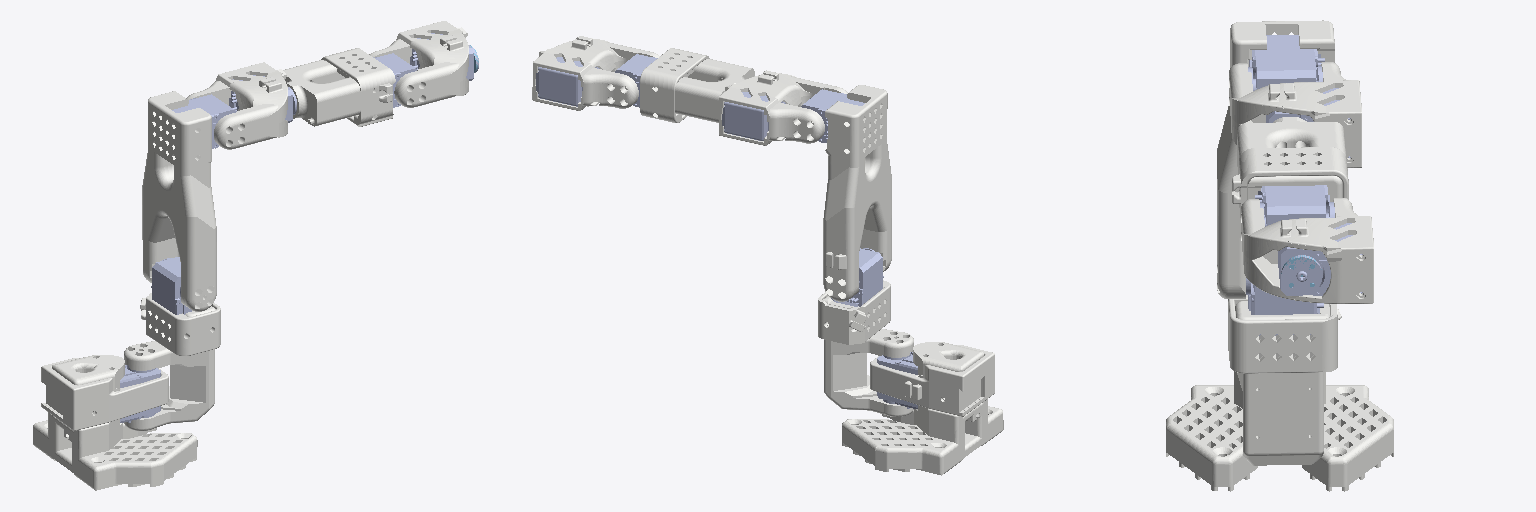
robot.urdf — so101:
<?xml version="1.0" ?>
<!-- Generated using onshape-to-robot -->
<!-- Onshape https://cad.onshape.com/documents/df54c2d0d5118dfe6b247a42/w/10fff0edb753715a22c52ae0/e/c1e9967b0a85ac00dd4973a7 -->
<robot name="so101">
  <!-- Link base_link -->
  <link name="base_link">
    <inertial>
      <origin xyz="0.0184526 -3.69594e-05 0.0306338" rpy="0 0 0"/>
      <mass value="0.233154"/>
      <inertia ixx="0.000226262" ixy="-6.88253e-07" ixz="1.43988e-05" iyy="0.000225689" iyz="1.36258e-07" izz="0.000233596"/>
    </inertial>
    <!-- Part sts3215_03a -->
    <visual>
      <origin xyz="0.0327 1e-11 0.0461" rpy="-0 -4.012e-09 4.43e-10"/>
      <geometry>
        <mesh filename="package://assets/sts3215_03a.stl"/>
      </geometry>
      <material name="sts3215_03a_material">
        <color rgba="0.796078 0.823529 0.937255 1"/>
      </material>
    </visual>
    <collision>
      <origin xyz="0.0327 1e-11 0.0461" rpy="-0 -4.012e-09 4.43e-10"/>
      <geometry>
        <mesh filename="package://assets/sts3215_03a.stl"/>
      </geometry>
    </collision>
    <!-- Part base_link_step -->
    <visual>
      <origin xyz="0 0 0" rpy="1.5708 0 1.5708"/>
      <geometry>
        <mesh filename="package://assets/base_link_step.stl"/>
      </geometry>
      <material name="base_link_step_material">
        <color rgba="0.964706 0.964706 0.952941 1"/>
      </material>
    </visual>
    <collision>
      <origin xyz="0 0 0" rpy="1.5708 0 1.5708"/>
      <geometry>
        <mesh filename="package://assets/base_link_step.stl"/>
      </geometry>
    </collision>
    <!-- Part base_motor_holder_so101 -->
    <visual>
      <origin xyz="0 0 0" rpy="1.5708 0 1.5708"/>
      <geometry>
        <mesh filename="package://assets/base_motor_holder_so101.stl"/>
      </geometry>
      <material name="base_motor_holder_so101_material">
        <color rgba="0.964706 0.964706 0.952941 1"/>
      </material>
    </visual>
    <collision>
      <origin xyz="0 0 0" rpy="1.5708 0 1.5708"/>
      <geometry>
        <mesh filename="package://assets/base_motor_holder_so101.stl"/>
      </geometry>
    </collision>
  </link>
  <!-- Link link_1 -->
  <link name="link_1">
    <inertial>
      <origin xyz="0.0311029 -0.00118464 -0.0119832" rpy="0 0 0"/>
      <mass value="0.152781"/>
      <inertia ixx="0.00015286" ixy="1.47992e-07" ixz="4.69778e-06" iyy="0.00015437" iyz="-3.12295e-07" izz="4.16335e-05"/>
    </inertial>
    <!-- Part rotation_pitch_so101 -->
    <visual>
      <origin xyz="-0.0119906 0.000473619 0.0464" rpy="-1.5708 0 3.10211"/>
      <geometry>
        <mesh filename="package://assets/rotation_pitch_so101.stl"/>
      </geometry>
      <material name="rotation_pitch_so101_material">
        <color rgba="0.964706 0.964706 0.952941 1"/>
      </material>
    </visual>
    <collision>
      <origin xyz="-0.0119906 0.000473619 0.0464" rpy="-1.5708 0 3.10211"/>
      <geometry>
        <mesh filename="package://assets/rotation_pitch_so101.stl"/>
      </geometry>
    </collision>
    <!-- Part sts3215_03a_2 -->
    <visual>
      <origin xyz="0.0305564 -0.00170734 -0.0417" rpy="-1.53132 1.5708 0"/>
      <geometry>
        <mesh filename="package://assets/sts3215_03a.stl"/>
      </geometry>
      <material name="sts3215_03a_2_material">
        <color rgba="0.796078 0.823529 0.937255 1"/>
      </material>
    </visual>
    <collision>
      <origin xyz="0.0305564 -0.00170734 -0.0417" rpy="-1.53132 1.5708 0"/>
      <geometry>
        <mesh filename="package://assets/sts3215_03a.stl"/>
      </geometry>
    </collision>
    <!-- Part rotation_pitch_so101_2 -->
    <visual>
      <origin xyz="0.0677393 -0.00287579 0.0158499" rpy="-1.61027 -1.5708 0"/>
      <geometry>
        <mesh filename="package://assets/rotation_pitch_so101__2.stl"/>
      </geometry>
      <material name="rotation_pitch_so101_2_material">
        <color rgba="0.964706 0.964706 0.952941 1"/>
      </material>
    </visual>
    <collision>
      <origin xyz="0.0677393 -0.00287579 0.0158499" rpy="-1.61027 -1.5708 0"/>
      <geometry>
        <mesh filename="package://assets/rotation_pitch_so101__2.stl"/>
      </geometry>
    </collision>
  </link>
  <!-- Link link_2 -->
  <link name="link_2">
    <inertial>
      <origin xyz="-0.0738003 -0.00356842 0.0183187" rpy="0 0 0"/>
      <mass value="0.196893"/>
      <inertia ixx="8.61024e-05" ixy="-2.77715e-05" ixz="-8.21513e-07" iyy="0.000338559" iyz="9.4401e-08" izz="0.000301115"/>
    </inertial>
    <!-- Part upper_arm_so101 -->
    <visual>
      <origin xyz="-0.065085 0.012 0.0182" rpy="-3.14159 0 0"/>
      <geometry>
        <mesh filename="package://assets/upper_arm_so101.stl"/>
      </geometry>
      <material name="upper_arm_so101_material">
        <color rgba="0.964706 0.964706 0.952941 1"/>
      </material>
    </visual>
    <collision>
      <origin xyz="-0.065085 0.012 0.0182" rpy="-3.14159 0 0"/>
      <geometry>
        <mesh filename="package://assets/upper_arm_so101.stl"/>
      </geometry>
    </collision>
    <!-- Part sts3215_03a_3 -->
    <visual>
      <origin xyz="-0.11257 -0.0155 0.0188" rpy="3.14159 0 -1.5708"/>
      <geometry>
        <mesh filename="package://assets/sts3215_03a.stl"/>
      </geometry>
      <material name="sts3215_03a_3_material">
        <color rgba="0.796078 0.823529 0.937255 1"/>
      </material>
    </visual>
    <collision>
      <origin xyz="-0.11257 -0.0155 0.0188" rpy="3.14159 0 -1.5708"/>
      <geometry>
        <mesh filename="package://assets/sts3215_03a.stl"/>
      </geometry>
    </collision>
  </link>
  <!-- Link 6dof_link_3 -->
  <link name="6dof_link_3">
    <inertial>
      <origin xyz="-0.0356344 0.000173351 0.0078778" rpy="0 0 0"/>
      <mass value="0.0905154"/>
      <inertia ixx="3.4528e-05" ixy="1.2444e-08" ixz="6.08705e-06" iyy="5.23387e-05" iyz="6.786e-08" izz="3.01289e-05"/>
    </inertial>
    <!-- Part wrist_roll_pitch_so101 -->
    <visual>
      <origin xyz="-0.028 0 0" rpy="3.14159 -1.5708 0"/>
      <geometry>
        <mesh filename="package://assets/wrist_roll_pitch_so101.stl"/>
      </geometry>
      <material name="wrist_roll_pitch_so101_material">
        <color rgba="0.964706 0.964706 0.952941 1"/>
      </material>
    </visual>
    <collision>
      <origin xyz="-0.028 0 0" rpy="3.14159 -1.5708 0"/>
      <geometry>
        <mesh filename="package://assets/wrist_roll_pitch_so101.stl"/>
      </geometry>
    </collision>
    <!-- Part sts3215_03a_4 -->
    <visual>
      <origin xyz="-0.0424 0 0.0125" rpy="-3.14159 1.5708 0"/>
      <geometry>
        <mesh filename="package://assets/sts3215_03a.stl"/>
      </geometry>
      <material name="sts3215_03a_4_material">
        <color rgba="0.796078 0.823529 0.937255 1"/>
      </material>
    </visual>
    <collision>
      <origin xyz="-0.0424 0 0.0125" rpy="-3.14159 1.5708 0"/>
      <geometry>
        <mesh filename="package://assets/sts3215_03a.stl"/>
      </geometry>
    </collision>
  </link>
  <!-- Link 6dof_link_4 -->
  <link name="6dof_link_4">
    <inertial>
      <origin xyz="5.40994e-05 -0.00231718 -0.0488906" rpy="0 0 0"/>
      <mass value="0.127965"/>
      <inertia ixx="8.72585e-05" ixy="2.1427e-08" ixz="3.0399e-08" iyy="0.000104692" iyz="-5.85084e-06" izz="3.63967e-05"/>
    </inertial>
    <!-- Part sts3215_03a_5 -->
    <visual>
      <origin xyz="0.0004 -0.0052 -0.0715499" rpy="-3.14159 1.5708 0"/>
      <geometry>
        <mesh filename="package://assets/sts3215_03a.stl"/>
      </geometry>
      <material name="sts3215_03a_5_material">
        <color rgba="0.796078 0.823529 0.937255 1"/>
      </material>
    </visual>
    <collision>
      <origin xyz="0.0004 -0.0052 -0.0715499" rpy="-3.14159 1.5708 0"/>
      <geometry>
        <mesh filename="package://assets/sts3215_03a.stl"/>
      </geometry>
    </collision>
    <!-- Part motor_holder_so101_wrist -->
    <visual>
      <origin xyz="0.0002 0.032 -0.014" rpy="-0 -1.5708 0"/>
      <geometry>
        <mesh filename="package://assets/motor_holder_so101_wrist.stl"/>
      </geometry>
      <material name="motor_holder_so101_wrist_material">
        <color rgba="0.964706 0.964706 0.952941 1"/>
      </material>
    </visual>
    <collision>
      <origin xyz="0.0002 0.032 -0.014" rpy="-0 -1.5708 0"/>
      <geometry>
        <mesh filename="package://assets/motor_holder_so101_wrist.stl"/>
      </geometry>
    </collision>
    <!-- Part arm5 -->
    <visual>
      <origin xyz="-0 0.032 -0.014" rpy="0 -1.5708 0"/>
      <geometry>
        <mesh filename="package://assets/arm5.stl"/>
      </geometry>
      <material name="arm5_material">
        <color rgba="0.964706 0.964706 0.952941 1"/>
      </material>
    </visual>
    <collision>
      <origin xyz="-0 0.032 -0.014" rpy="0 -1.5708 0"/>
      <geometry>
        <mesh filename="package://assets/arm5.stl"/>
      </geometry>
    </collision>
  </link>
  <!-- Link 6dof_link_5 -->
  <link name="6dof_link_5">
    <inertial>
      <origin xyz="-0.0356344 0.000173351 0.0078778" rpy="0 0 0"/>
      <mass value="0.0905154"/>
      <inertia ixx="3.4528e-05" ixy="1.2444e-08" ixz="6.08705e-06" iyy="5.23387e-05" iyz="6.786e-08" izz="3.01289e-05"/>
    </inertial>
    <!-- Part wrist_roll_pitch_so101_2 -->
    <visual>
      <origin xyz="-0.028 0 -0" rpy="3.14159 -1.5708 0"/>
      <geometry>
        <mesh filename="package://assets/wrist_roll_pitch_so101.stl"/>
      </geometry>
      <material name="wrist_roll_pitch_so101_2_material">
        <color rgba="0.964706 0.964706 0.952941 1"/>
      </material>
    </visual>
    <collision>
      <origin xyz="-0.028 0 -0" rpy="3.14159 -1.5708 0"/>
      <geometry>
        <mesh filename="package://assets/wrist_roll_pitch_so101.stl"/>
      </geometry>
    </collision>
    <!-- Part sts3215_03a_6 -->
    <visual>
      <origin xyz="-0.0424 0 0.0125" rpy="-3.14159 1.5708 0"/>
      <geometry>
        <mesh filename="package://assets/sts3215_03a.stl"/>
      </geometry>
      <material name="sts3215_03a_6_material">
        <color rgba="0.796078 0.823529 0.937255 1"/>
      </material>
    </visual>
    <collision>
      <origin xyz="-0.0424 0 0.0125" rpy="-3.14159 1.5708 0"/>
      <geometry>
        <mesh filename="package://assets/sts3215_03a.stl"/>
      </geometry>
    </collision>
  </link>
  <!-- Link 6dof_link_6 -->
  <link name="6dof_link_6">
    <inertial>
      <origin xyz="-0 0 -0.00125" rpy="0 0 0"/>
      <mass value="0.00192972"/>
      <inertia ixx="4.9236e-08" ixy="-0" ixz="-0" iyy="4.9236e-08" iyz="-0" izz="9.6462e-08"/>
    </inertial>
    <!-- Part 6dof_link_6 -->
    <visual>
      <origin xyz="-0 0 0" rpy="0 -0 2.82648"/>
      <geometry>
        <mesh filename="package://assets/6dof_link_6.stl"/>
      </geometry>
      <material name="6dof_link_6_material">
        <color rgba="0.615686 0.811765 0.929412 1"/>
      </material>
    </visual>
    <collision>
      <origin xyz="-0 0 0" rpy="0 -0 2.82648"/>
      <geometry>
        <mesh filename="package://assets/6dof_link_6.stl"/>
      </geometry>
    </collision>
  </link>
  <!-- Joint from 6dof_link_5 to 6dof_link_6 -->
  <joint name="joint_6" type="revolute">
    <origin xyz="-0.0586 0 0" rpy="1.5708 0 1.5708"/>
    <parent link="6dof_link_5"/>
    <child link="6dof_link_6"/>
    <axis xyz="0 0 1"/>
    <limit effort="10" velocity="10" lower="-5.57014" upper="0.0149135"/>
  </joint>
  <!-- Joint from 6dof_link_4 to 6dof_link_5 -->
  <joint name="joint_5" type="revolute">
    <origin xyz="-0.0001 -0.0052 -0.0840499" rpy="0 -1.5708 0"/>
    <parent link="6dof_link_4"/>
    <child link="6dof_link_5"/>
    <axis xyz="0 0 1"/>
    <limit effort="10" velocity="10" lower="-1.65806" upper="1.65806"/>
  </joint>
  <!-- Joint from 6dof_link_3 to 6dof_link_4 -->
  <joint name="joint_4" type="revolute">
    <origin xyz="-0.0611 0 0" rpy="0 1.5708 0"/>
    <parent link="6dof_link_3"/>
    <child link="6dof_link_4"/>
    <axis xyz="0 0 1"/>
    <limit effort="10" velocity="10" lower="-3.14159" upper="2.70526"/>
  </joint>
  <!-- Joint from link_2 to 6dof_link_3 -->
  <joint name="joint_3" type="revolute">
    <origin xyz="-0.11257 -0.028 0.0183" rpy="-0 0 1.5708"/>
    <parent link="link_2"/>
    <child link="6dof_link_3"/>
    <axis xyz="0 0 1"/>
    <limit effort="10" velocity="10" lower="-1.68948" upper="1.5708"/>
  </joint>
  <!-- Joint from link_1 to link_2 -->
  <joint name="joint_2" type="revolute">
    <origin xyz="0.0312945 0.0169781 -0.0542" rpy="1.5708 -1.56918 -0.0394785"/>
    <parent link="link_1"/>
    <child link="link_2"/>
    <axis xyz="0 0 1"/>
    <limit effort="10" velocity="10" lower="-1.74371" upper="1.74695"/>
  </joint>
  <!-- Joint from base_link to link_1 -->
  <joint name="joint_1" type="revolute">
    <origin xyz="0.0452 1.6e-11 0.0648" rpy="3.14159 -4.012e-09 4.43e-10"/>
    <parent link="base_link"/>
    <child link="link_1"/>
    <axis xyz="0 0 1"/>
    <limit effort="10" velocity="10" lower="-1.88038" upper="1.95934"/>
  </joint>
</robot>

--- Facts derived from the render (not from the file) ---
3 views of the same robot in one strip: view 1: azimuth 30°, elevation 25°; view 2: azimuth 150°, elevation 25°; view 3: azimuth 270°, elevation 25° (orthographic).
Robot: so101 — 7 links, 6 joints (6 revolute); root link base_link; default pose: every joint at zero.
Links seen in each view (by area): view 1: base_link, link_2, link_1, 6dof_link_4, 6dof_link_3, 6dof_link_5; view 2: base_link, link_2, link_1, 6dof_link_3, 6dof_link_5, 6dof_link_4; view 3: link_1, base_link, 6dof_link_5, 6dof_link_4, link_2, 6dof_link_3.
Boxes of the visible links, x1,y1,x2,y2 form: base_link: [33, 355, 197, 490]; link_2: [142, 91, 236, 311]; link_1: [124, 257, 220, 430]; 6dof_link_4: [283, 48, 416, 126]; 6dof_link_3: [186, 62, 296, 149]; 6dof_link_5: [369, 21, 478, 107]; base_link: [842, 342, 1003, 475]; link_2: [801, 85, 891, 301]; link_1: [818, 248, 913, 416]; 6dof_link_3: [719, 70, 847, 145]; 6dof_link_5: [532, 36, 659, 110]; 6dof_link_4: [615, 48, 754, 122]; link_1: [1228, 278, 1341, 465]; base_link: [1166, 371, 1393, 491]; 6dof_link_5: [1241, 198, 1373, 303]; 6dof_link_4: [1232, 117, 1348, 226]; link_2: [1217, 20, 1347, 298]; 6dof_link_3: [1229, 62, 1361, 167].
Size in the robot's own frame: 0.3347 by 0.1109 by 0.2517 metres.
16 mesh visuals loaded from 10 distinct referenced files (10 binary STL).
